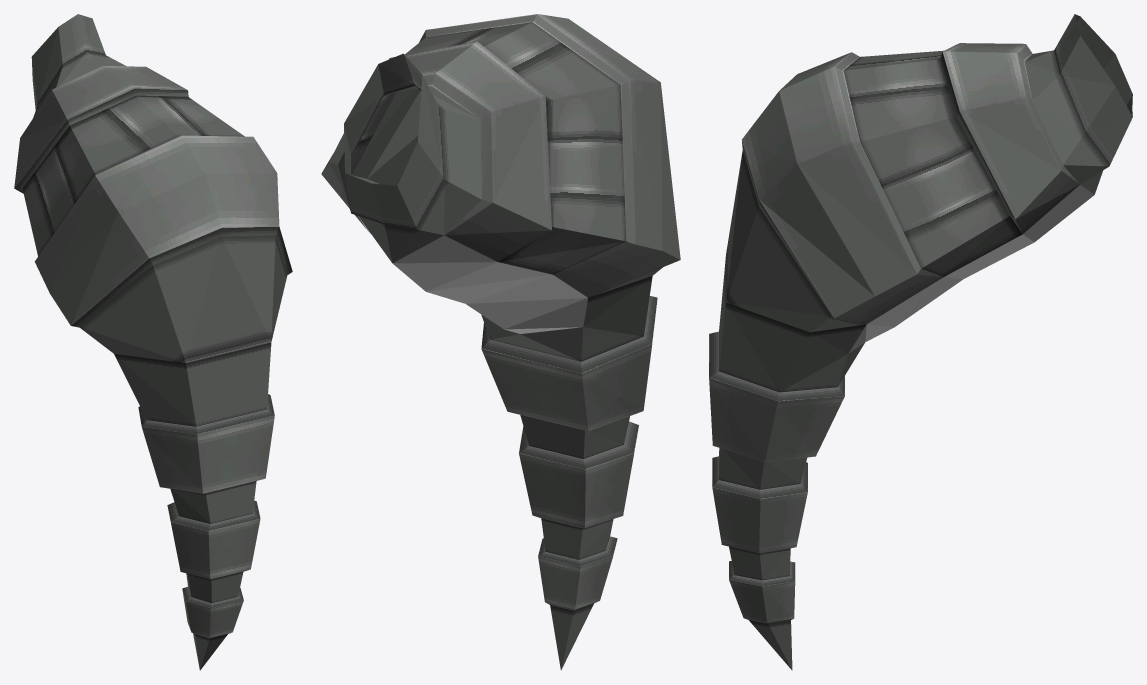
Rendered from BR_Aggron.obj.
3 renders of one model, left to right at view 1: azimuth 30°, elevation 25°; view 2: azimuth 150°, elevation 25°; view 3: azimuth 270°, elevation 25°, orthographic. The views are drawn at different scales.
Visible parts, largest first — view 1: bossgodora; view 2: bossgodora; view 3: bossgodora.
Part boxes in pixels (x1,y1,x2,y2): bossgodora: (14,14,292,670); bossgodora: (321,14,680,670); bossgodora: (709,14,1132,670).
Bounding box in the file's own units: 12.08 × 28.61 × 16.73.
